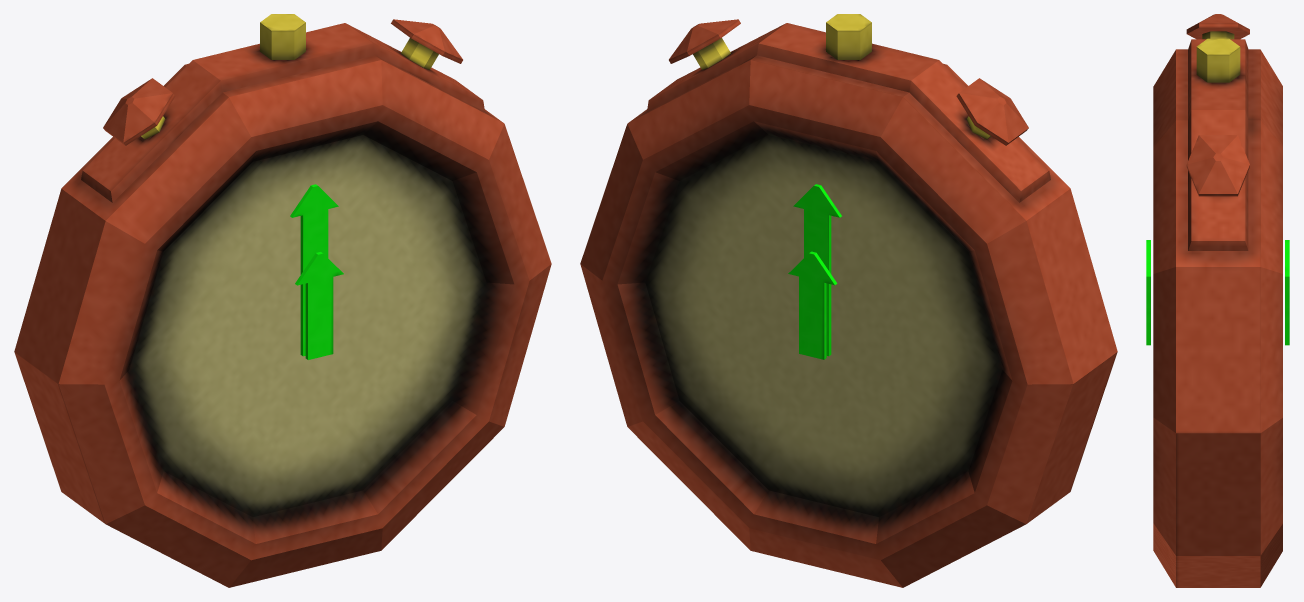
The model's file is Clock.fbx.
3 renders of one model, left to right at view 1: azimuth 30°, elevation 25°; view 2: azimuth 150°, elevation 25°; view 3: azimuth 270°, elevation 25°, orthographic. The views are drawn at different scales.
Visible parts, largest first — view 1: Clock, ShortF, LongF; view 2: Clock, ShortB, LongB; view 3: Clock, ShortF, ShortB.
Boxes of the visible parts, left/top/right/bottom form: Clock: left=14, top=14, right=551, bottom=587; ShortF: left=295, top=252, right=343, bottom=359; LongF: left=290, top=184, right=338, bottom=356; Clock: left=580, top=14, right=1117, bottom=587; ShortB: left=788, top=251, right=837, bottom=359; LongB: left=793, top=184, right=841, bottom=356; Clock: left=1153, top=14, right=1282, bottom=587; ShortF: left=1146, top=240, right=1150, bottom=345; ShortB: left=1285, top=240, right=1289, bottom=345.
Size of the model in its own units: 44.1 by 45.36 by 11.64.
